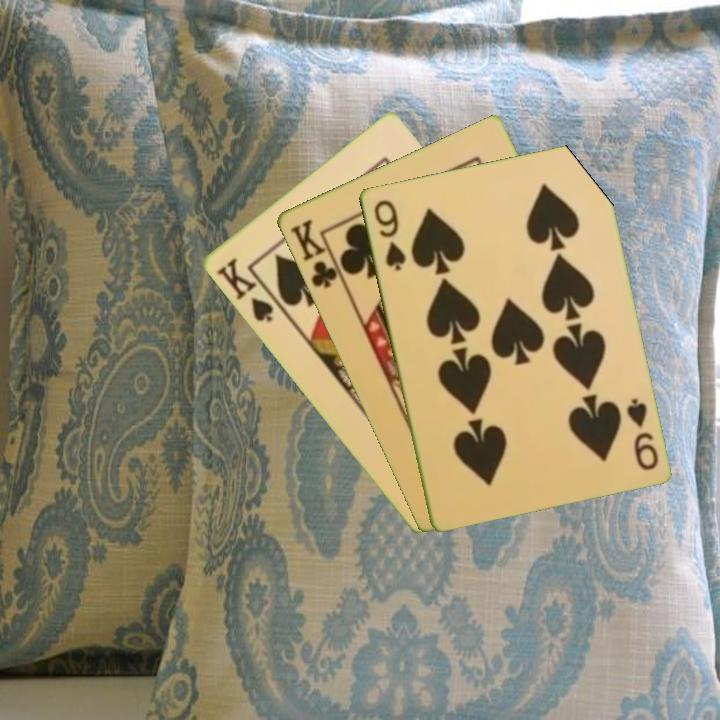9s: (369, 196, 409, 274), (622, 394, 661, 473)
Kc: (286, 215, 346, 291)
Ks: (212, 253, 285, 325)
